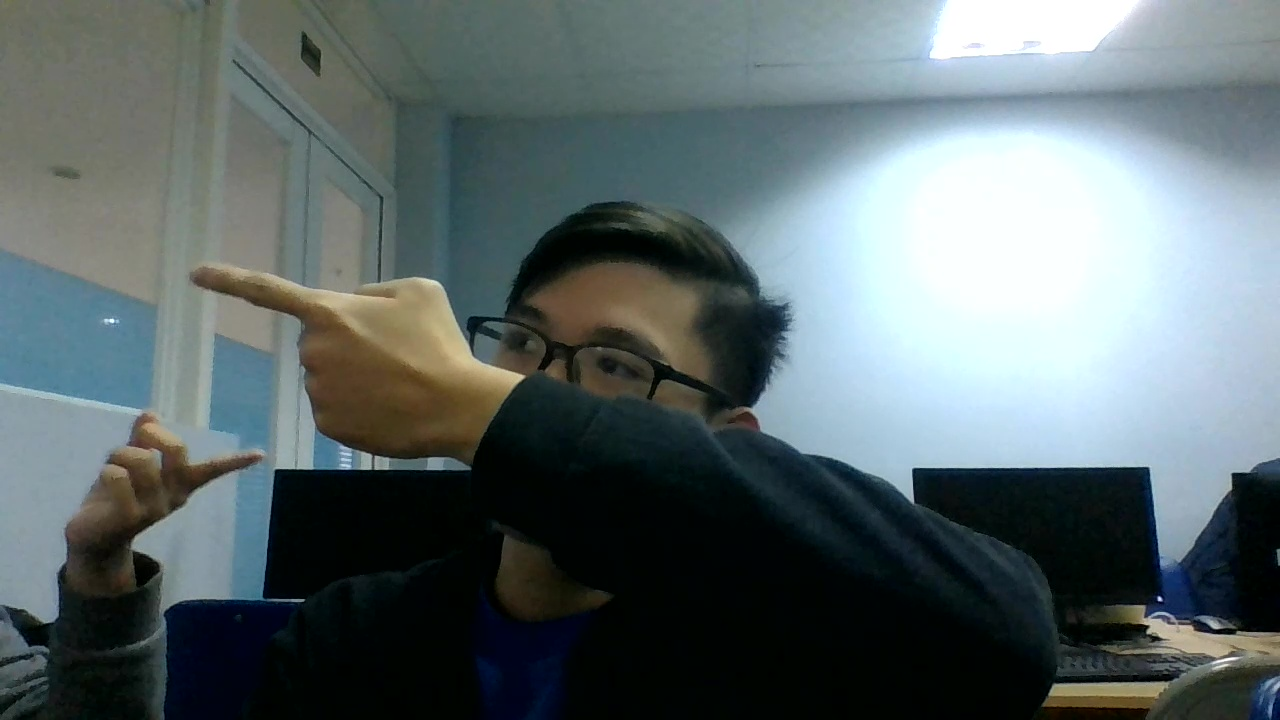left: (65, 406, 266, 558)
right: (190, 259, 476, 462)
